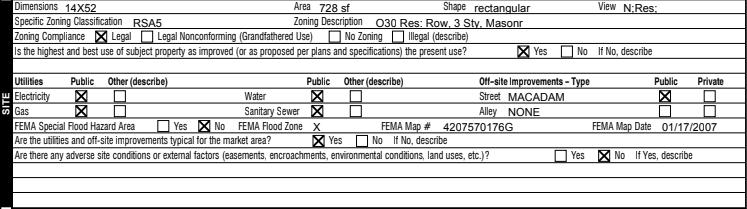checked: (515, 43, 532, 60), (93, 28, 110, 44), (73, 88, 90, 104), (310, 133, 327, 149), (596, 149, 612, 165), (197, 118, 212, 135), (310, 88, 325, 105), (310, 104, 325, 120), (74, 104, 89, 119), (658, 89, 673, 104)
unchecked: (559, 44, 575, 61), (553, 147, 568, 165), (139, 29, 155, 45), (348, 104, 364, 120), (391, 29, 406, 46), (113, 88, 128, 105), (328, 29, 343, 45), (348, 89, 364, 104), (156, 118, 171, 134), (702, 89, 718, 104), (659, 104, 673, 121), (703, 103, 717, 120), (355, 133, 369, 149), (113, 104, 127, 119)
